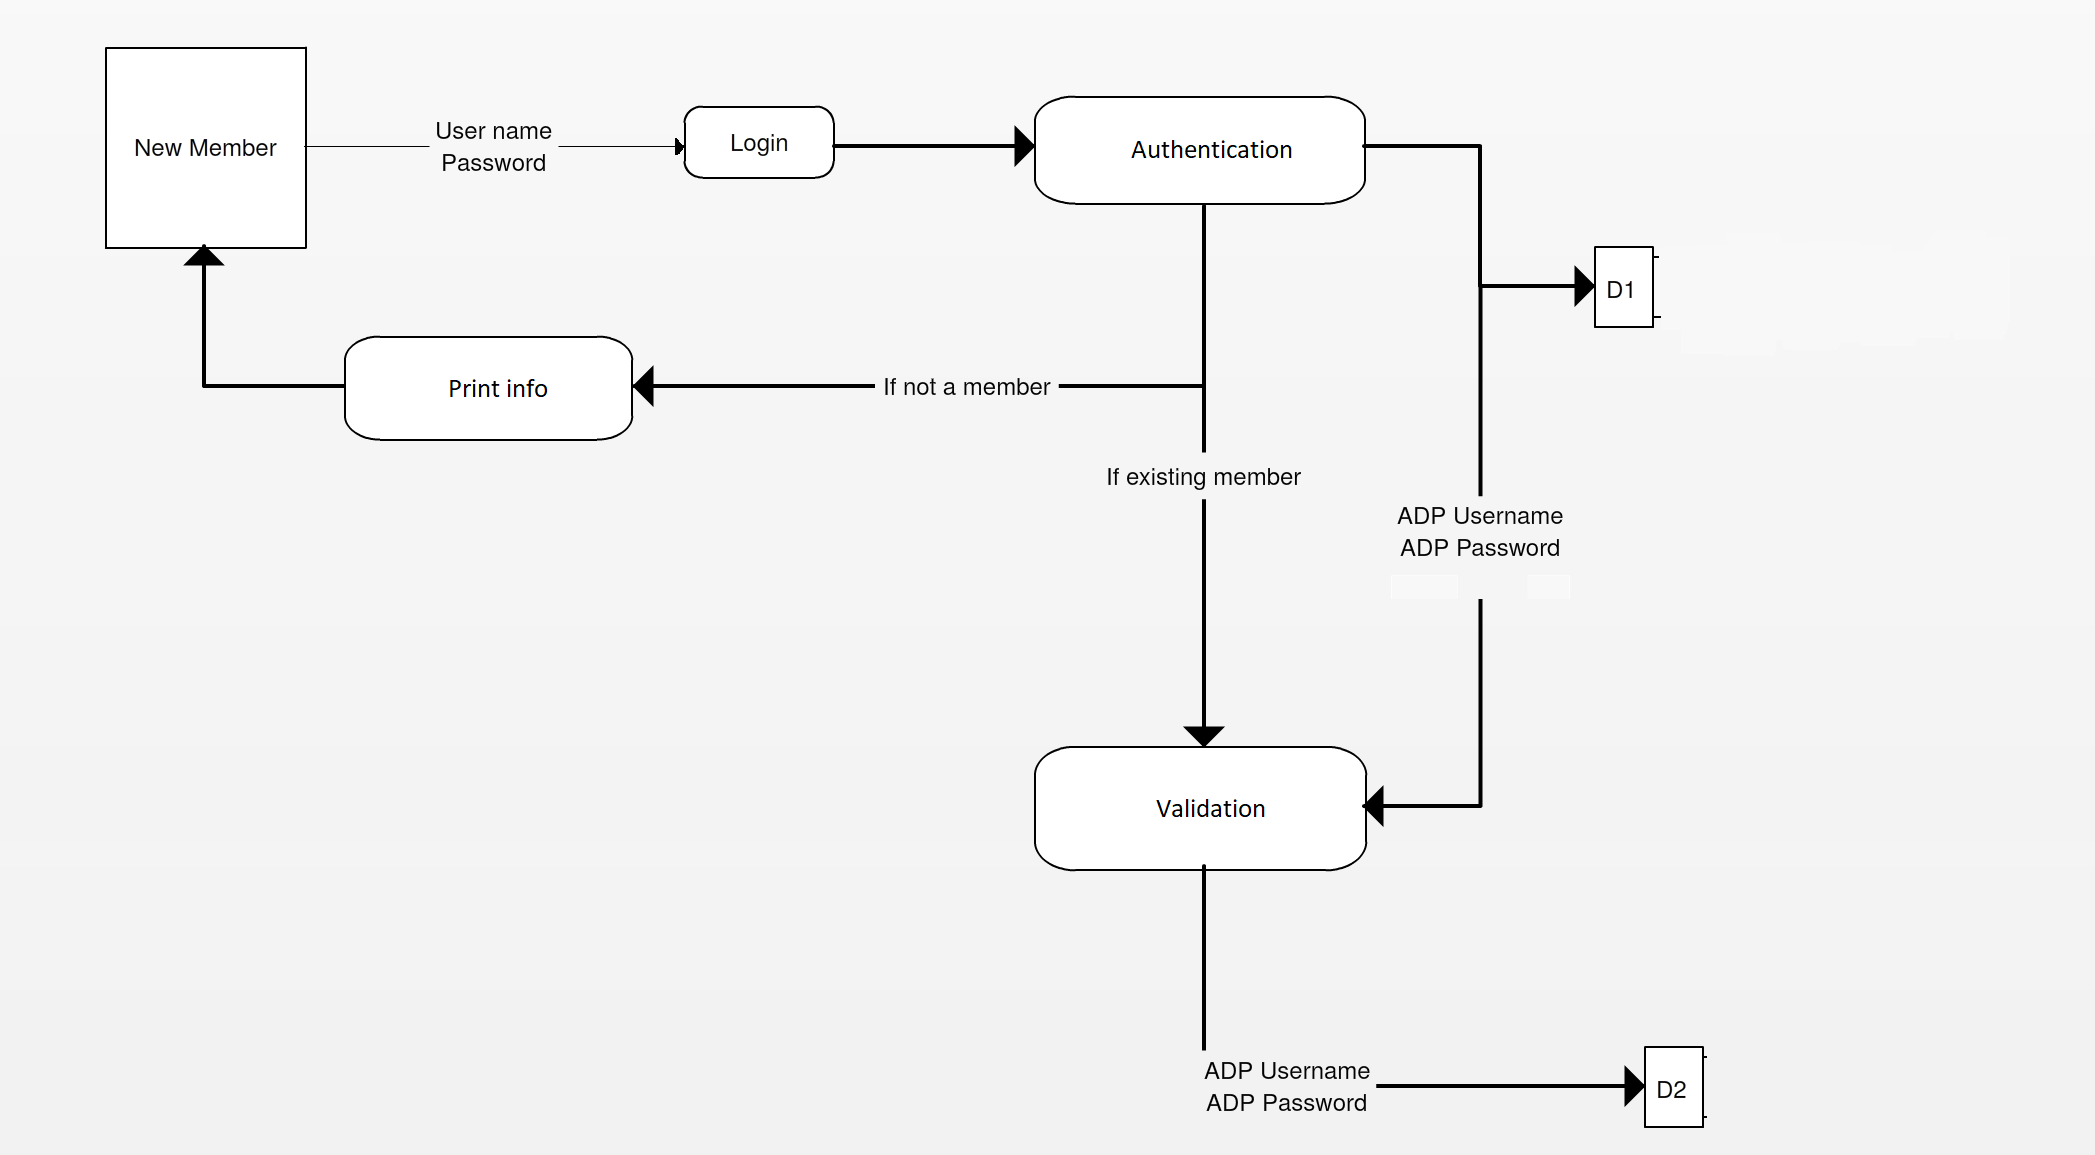arrow: (1188, 856, 1658, 1109), (1354, 277, 1492, 834), (1355, 139, 1600, 306), (627, 360, 1213, 412), (1179, 201, 1232, 754), (829, 122, 1040, 172), (550, 134, 688, 162), (300, 137, 444, 156)
process: (1027, 741, 1377, 878), (100, 43, 313, 256), (1028, 91, 1375, 212), (340, 331, 644, 445), (678, 102, 842, 186), (1586, 238, 1667, 331), (1638, 1041, 1712, 1137)
text: (1198, 1055, 1372, 1118), (1392, 502, 1567, 562), (431, 114, 556, 179), (1099, 459, 1304, 489), (875, 368, 1052, 400), (1129, 135, 1308, 162), (131, 129, 286, 158), (1152, 791, 1279, 819), (439, 373, 555, 403), (723, 125, 798, 158), (1654, 1075, 1692, 1108), (1600, 275, 1644, 300)
